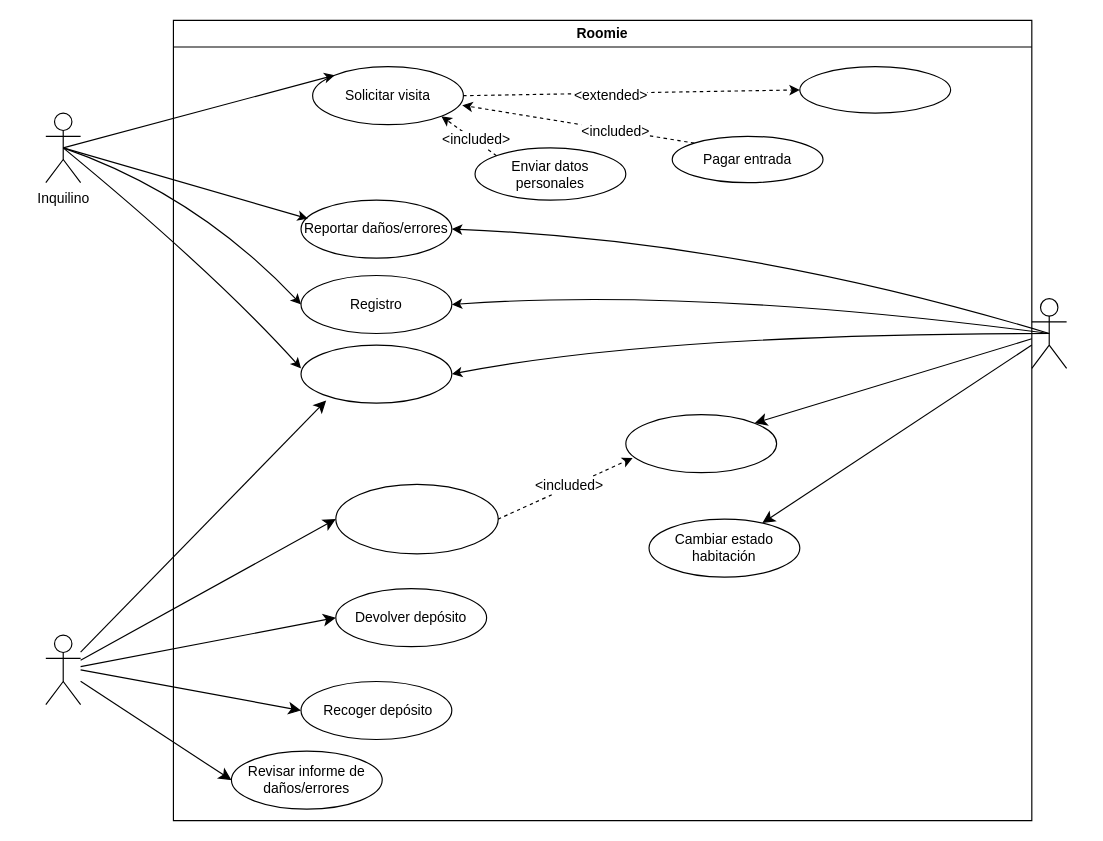
Image size: 1103x841. Some labels were removed from this diagram. Here are the shapes that lost their labels. From the top down, the box of each, then its label:
(799, 66, 951, 113): Cancelar reserva
(1031, 298, 1067, 368): Arrendador
(300, 344, 452, 403): Log in
(625, 414, 777, 473): Publicar anuncio
(335, 483, 498, 554): Verificar anuncio de la habitación
(45, 634, 81, 705): Administrador
